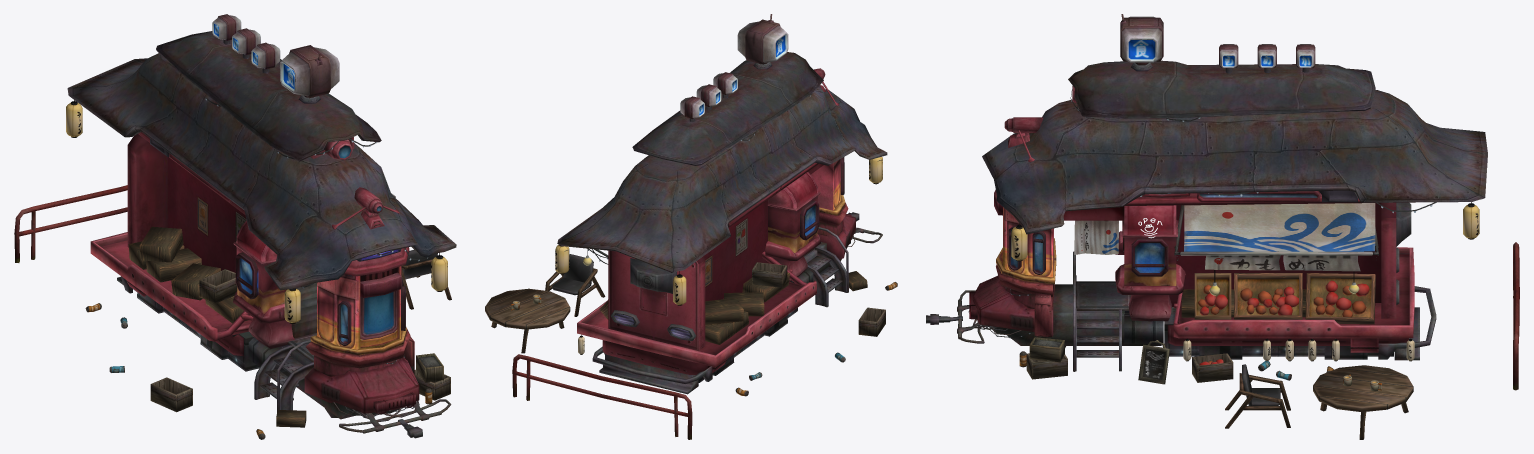
File: cho-dem.glb
3 views of the same model, side by side, from view 1: azimuth 30°, elevation 25°; view 2: azimuth 150°, elevation 25°; view 3: azimuth 270°, elevation 25° (orthographic). The views are drawn at different scales.
Parts seen in each view (by area): view 1: Object_3, Object_2, Object_7, Object_6, Object_10; view 2: Object_3, Object_2, Object_7, Object_6; view 3: Object_3, Object_7, Object_2, Object_4, Object_6, Object_10.
Part boxes in pixels (left/top/right/bottom): Object_3: left=67, top=14, right=456, bottom=438; Object_2: left=90, top=132, right=419, bottom=413; Object_7: left=14, top=97, right=451, bottom=427; Object_6: left=66, top=101, right=447, bottom=323; Object_10: left=85, top=303, right=432, bottom=439; Object_3: left=557, top=14, right=887, bottom=394; Object_2: left=577, top=68, right=855, bottom=374; Object_7: left=485, top=93, right=885, bottom=439; Object_6: left=555, top=156, right=882, bottom=354; Object_3: left=926, top=14, right=1487, bottom=371; Object_7: left=968, top=86, right=1519, bottom=439; Object_2: left=972, top=86, right=1415, bottom=352; Object_4: left=1198, top=280, right=1369, bottom=365; Object_6: left=1011, top=203, right=1479, bottom=361; Object_10: left=1019, top=293, right=1333, bottom=380.
Bounding box in the file's own units: 6.89 × 6.13 × 10.05.
Materials: 8 (8 with a texture image).
